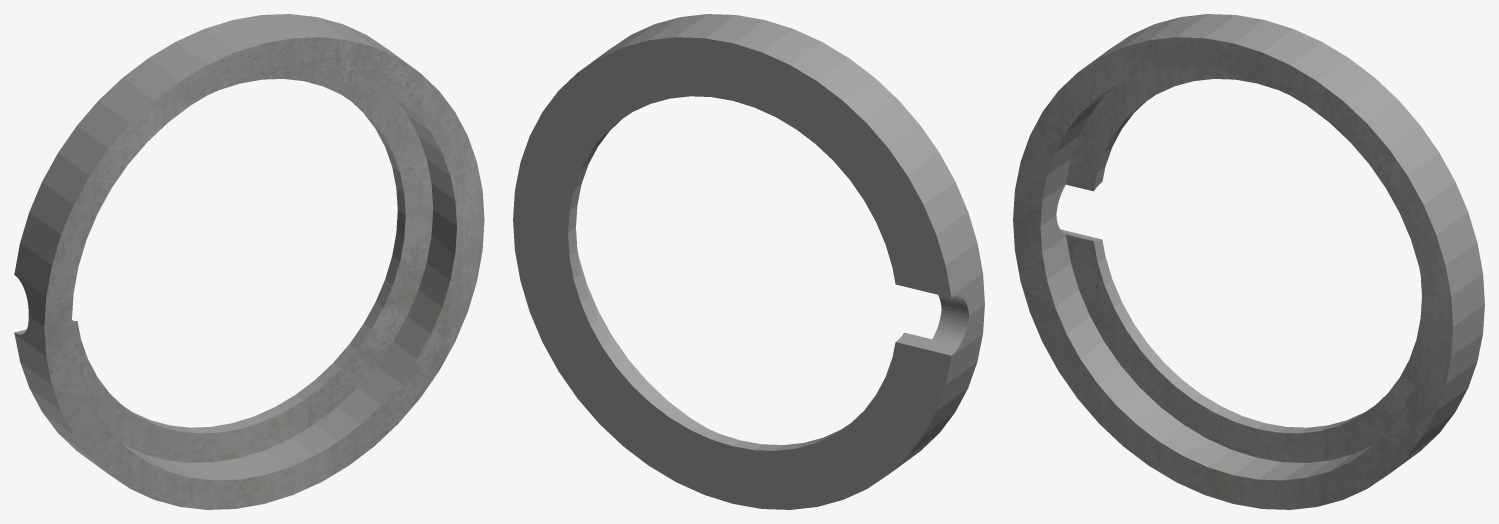
File: pool_034.obj
3 renders of one model, left to right at view 1: azimuth 30°, elevation 25°; view 2: azimuth 150°, elevation 25°; view 3: azimuth 330°, elevation 25°, orthographic.
Bounding box in the file's own units: 16 × 16 × 2.
